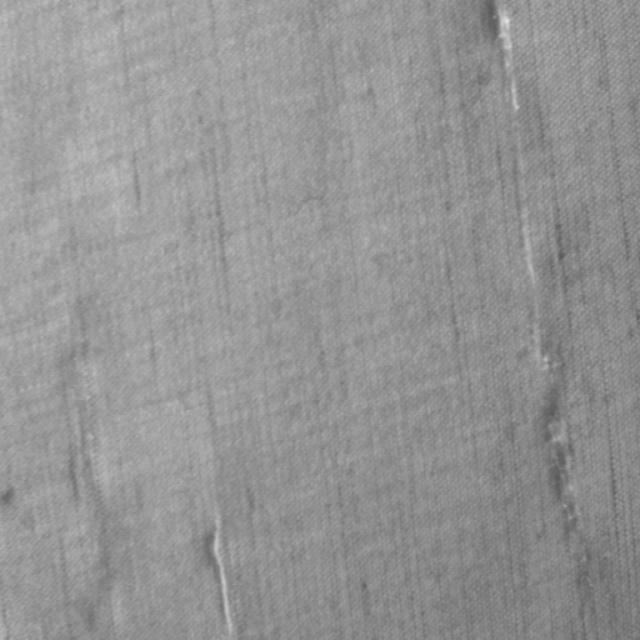thread error: (41, 215, 127, 639), (479, 0, 545, 361), (535, 352, 604, 638), (196, 504, 241, 638)
